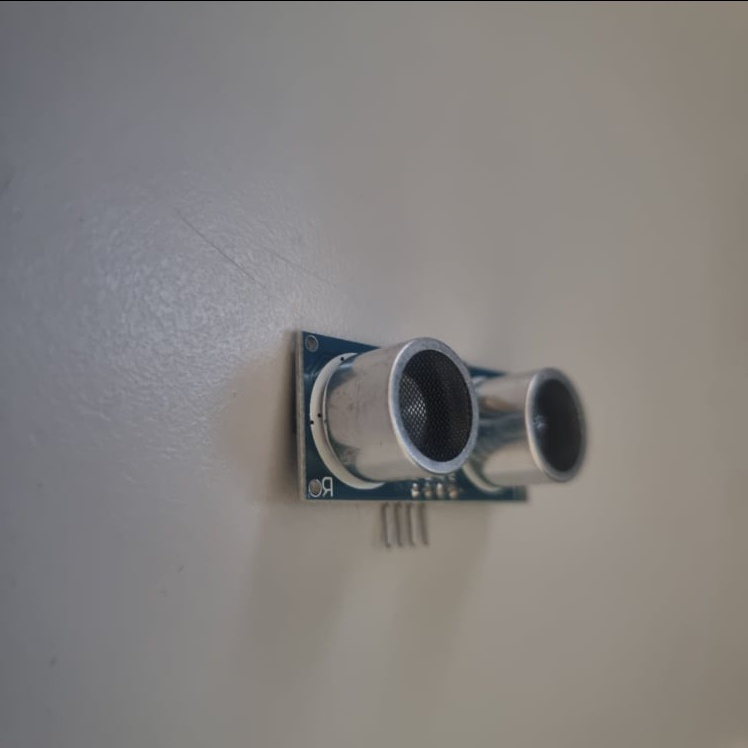SENSOR: (295, 327, 590, 510)
